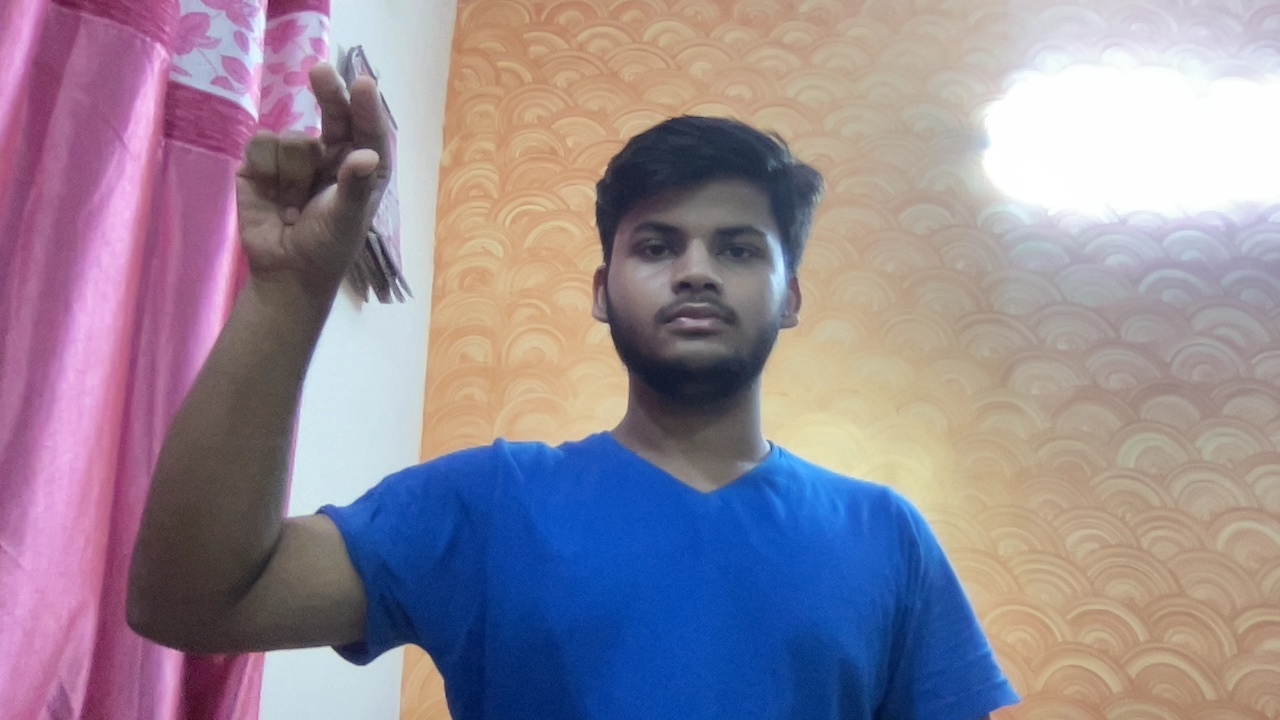no: (211, 53, 450, 297)
